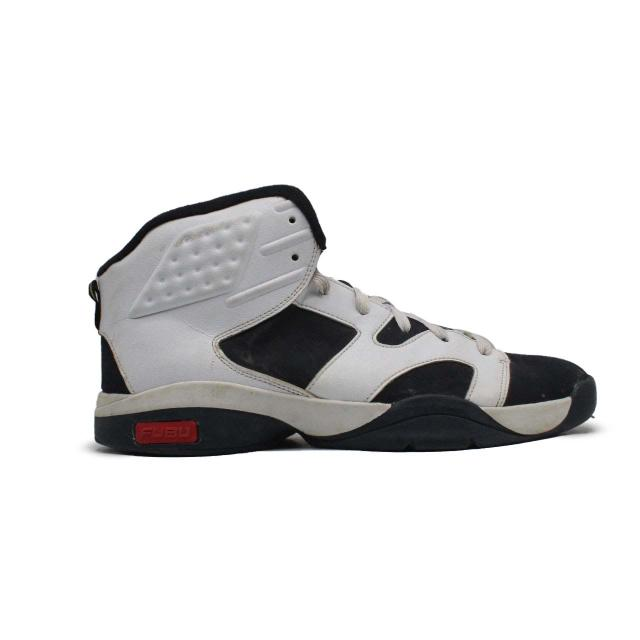heel: (89, 248, 128, 389)
midsole: (90, 378, 596, 455)
uppersole: (131, 192, 588, 406)
